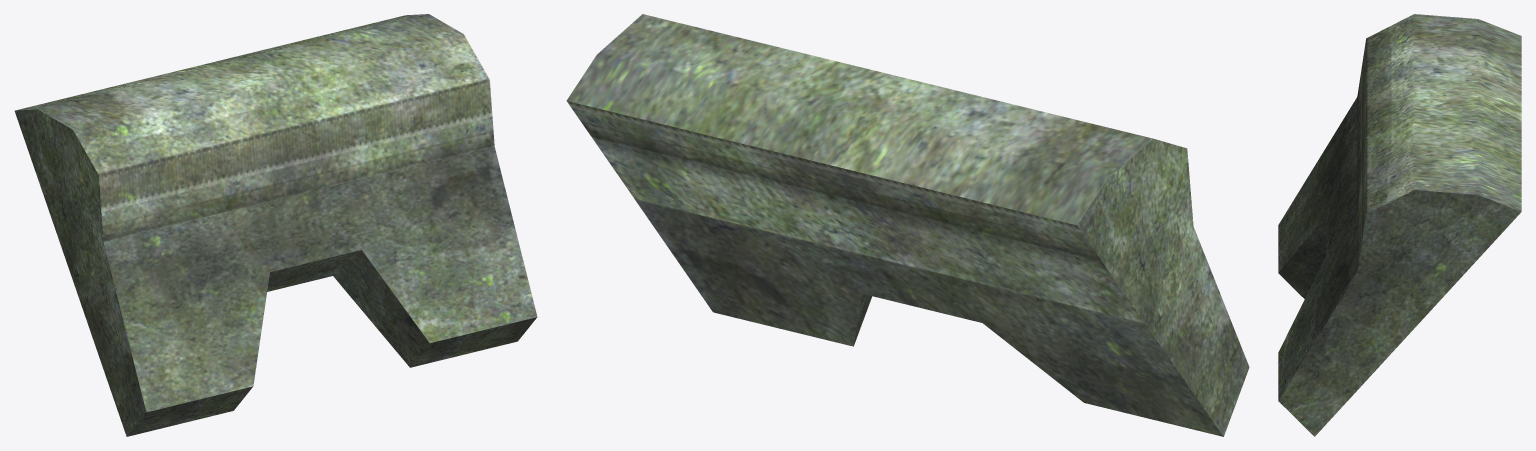
The model's file is fitting1.fbx.
3 views of the same model, side by side, from view 1: azimuth 30°, elevation 25°; view 2: azimuth 150°, elevation 25°; view 3: azimuth 270°, elevation 25° (orthographic). The views are drawn at different scales.
Parts seen in each view (by area): view 1: Mesh Object; view 2: Mesh Object; view 3: Mesh Object.
Boxes of the visible parts, x1,y1,x2,y2 form: Mesh Object: [14, 14, 537, 436]; Mesh Object: [566, 14, 1249, 436]; Mesh Object: [1278, 14, 1521, 436].
Bounding box in the file's own units: 0.5 × 0.3274 × 0.2922.
